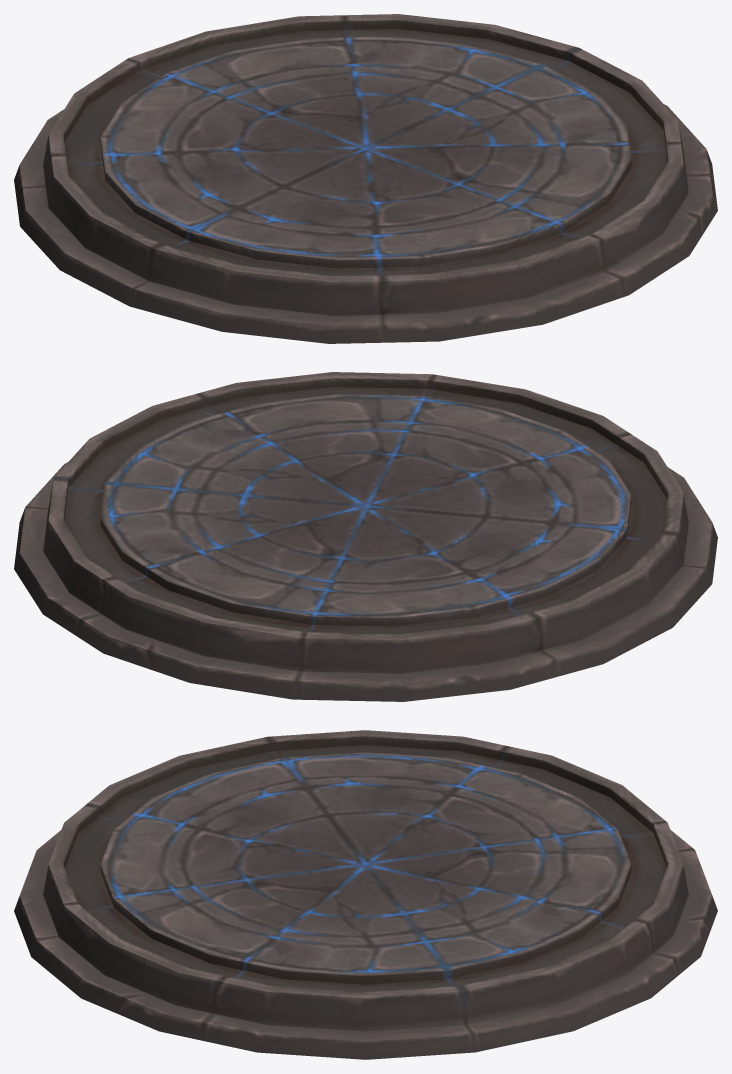
The model's file is 3DUIshipan02.FBX.
3 renders of one model, top to bottom at view 1: azimuth 30°, elevation 25°; view 2: azimuth 150°, elevation 25°; view 3: azimuth 270°, elevation 25°, orthographic.
Visible parts, largest first — view 1: 3DUIshipan02; view 2: 3DUIshipan02; view 3: 3DUIshipan02.
Part boxes in pixels (x1=…): 3DUIshipan02: x1=14, y1=14, x2=717, y2=343; 3DUIshipan02: x1=14, y1=372, x2=717, y2=701; 3DUIshipan02: x1=14, y1=730, x2=717, y2=1059.
Bounding box in the file's own units: 2.32 × 2.32 × 0.1699.
